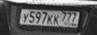license-plateSW: (20, 8, 80, 28)
